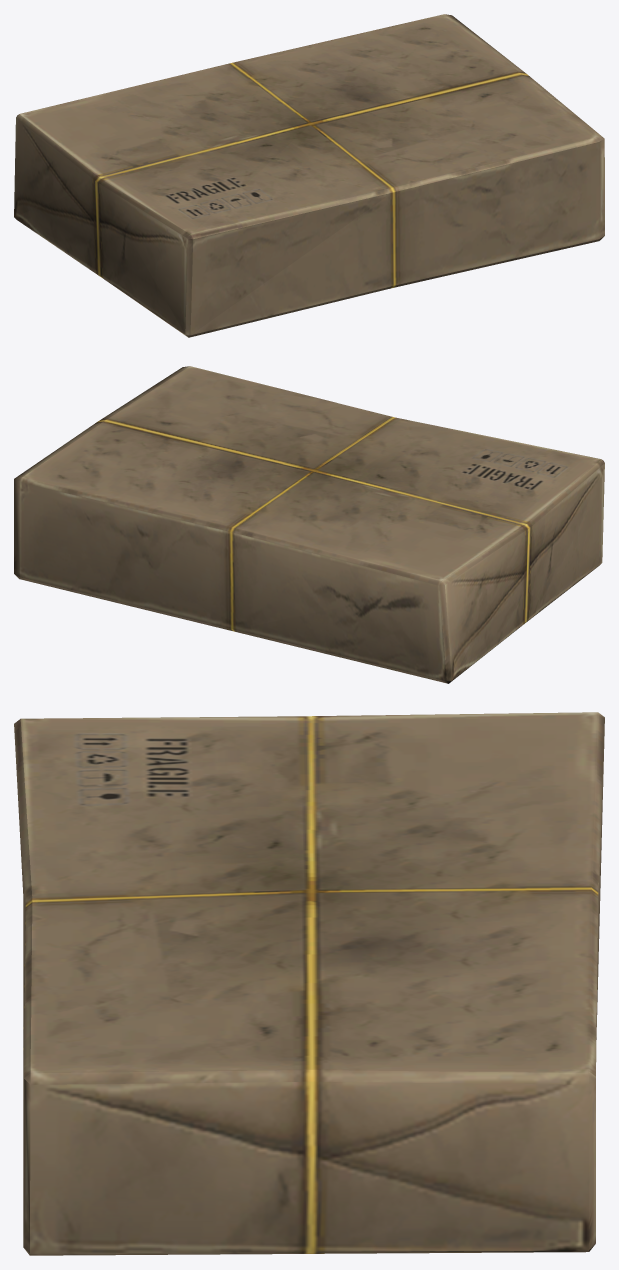
The picture shows the model from 3 angles, top to bottom: view 1: azimuth 30°, elevation 25°; view 2: azimuth 150°, elevation 25°; view 3: azimuth 270°, elevation 25°; orthographic projection. The views are drawn at different scales.
Parts seen in each view (by area): view 1: box 3; view 2: box 3; view 3: box 3.
Part boxes in pixels (bbox=[...]): box 3: bbox=[14, 14, 604, 337]; box 3: bbox=[14, 366, 604, 683]; box 3: bbox=[14, 712, 604, 1255].
Size of the model in its own units: 50.88 by 12.24 by 34.2.
1 material, 1 textured.
